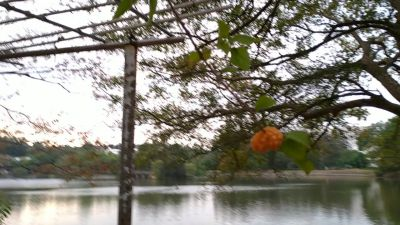eggs: (249, 125, 285, 154)
